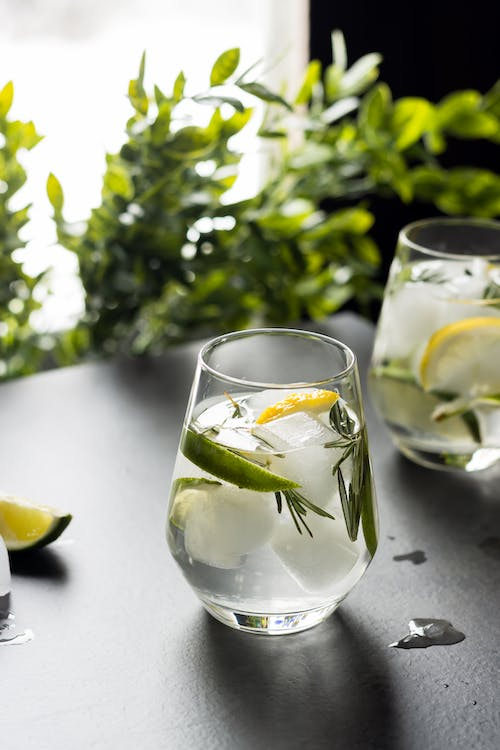alcohol: (162, 326, 381, 638), (366, 217, 500, 475)
